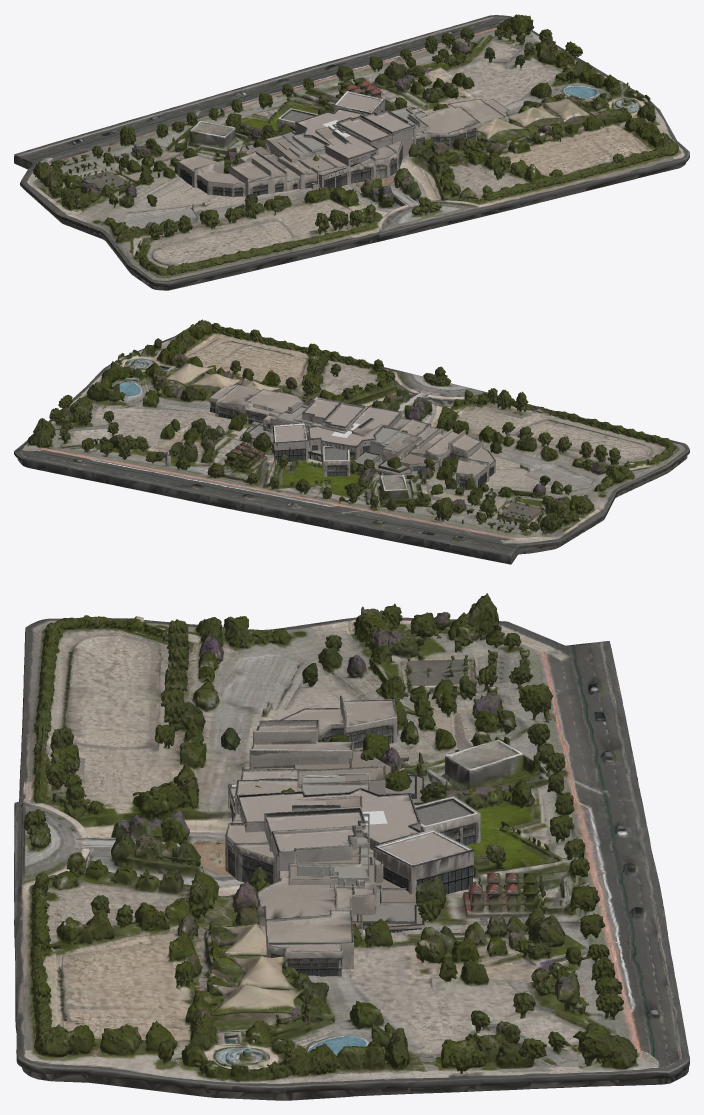
Rendered from MERKEZ_ANKARA_KAT_1_DENEME_mobile.glb.
3 views of the same model, one above another, from view 1: azimuth 30°, elevation 25°; view 2: azimuth 150°, elevation 25°; view 3: azimuth 270°, elevation 25° (orthographic). The views are drawn at different scales.
Parts seen in each view (by area): view 1: mesh_node, D_BLOK, C_BLOK, B_BLOK, A_BLOK; view 2: mesh_node, D_BLOK, C_BLOK, A_BLOK, B_BLOK; view 3: mesh_node, D_BLOK, C_BLOK, B_BLOK, A_BLOK.
Boxes of the visible parts, bbox=[...] form: mesh_node: bbox=[14, 14, 689, 290]; D_BLOK: bbox=[177, 99, 510, 197]; C_BLOK: bbox=[295, 91, 415, 189]; B_BLOK: bbox=[238, 107, 429, 169]; A_BLOK: bbox=[246, 108, 420, 157]; mesh_node: bbox=[14, 319, 689, 564]; D_BLOK: bbox=[206, 384, 495, 487]; C_BLOK: bbox=[272, 396, 431, 462]; A_BLOK: bbox=[242, 401, 412, 473]; B_BLOK: bbox=[239, 402, 438, 478]; mesh_node: bbox=[14, 593, 689, 1100]; D_BLOK: bbox=[225, 695, 480, 978]; C_BLOK: bbox=[228, 784, 474, 894]; B_BLOK: bbox=[288, 751, 425, 935]; A_BLOK: bbox=[292, 773, 425, 929].
Size of the model in its own units: 1295669 by 88795 by 785314.
Materials: 5 (5 with a texture image).
